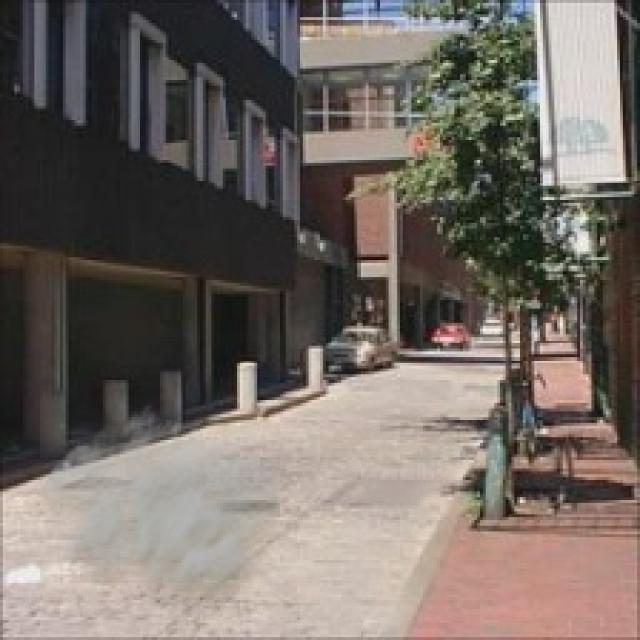smoke: (26, 403, 297, 628)
